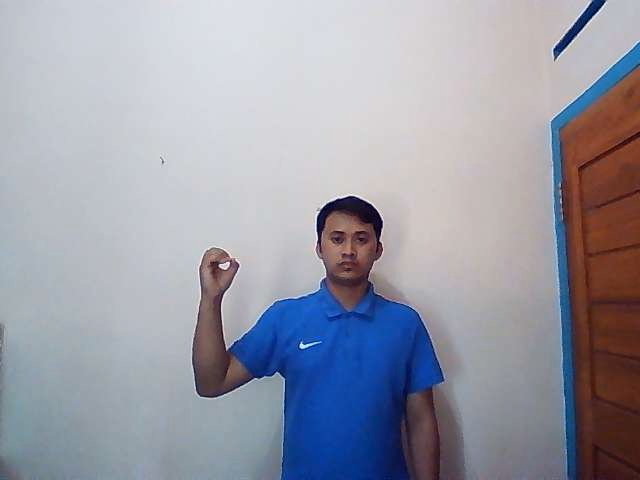O: (196, 246, 239, 301)
